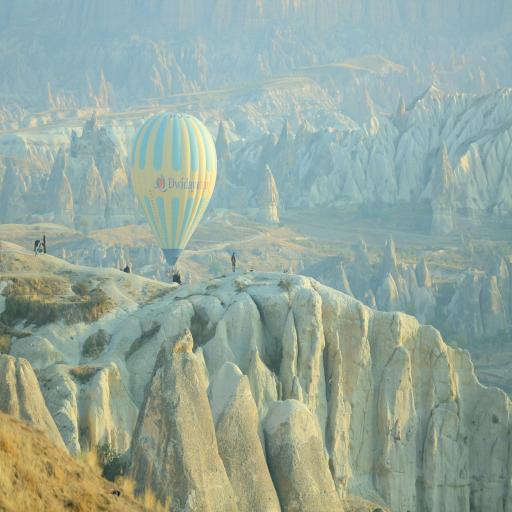hot air ballon: (129, 111, 216, 277)
